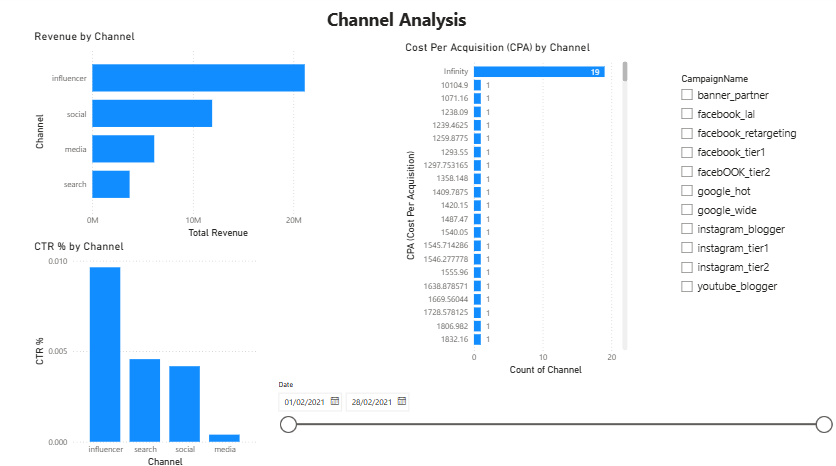

The page's visual inventory and layout, read from the dashboard file:
{"tool":"powerbi","page":{"name":"Channel Analysis","canvas":[1280,720],"ordinal":1},"visuals":[{"type":"barChart","title":"Revenue by Channel","fields":{"Category":["MarketingData.Channel"],"Y":["MarketingData.Total Revenue"]},"box":[56.1,27.3,491.4,345.8],"z":0},{"type":"barChart","title":"Cost Per Acquisition (CPA) by Channel","fields":{"Category":["MarketingData.CPA (Cost Per Acquisition)"],"Y":["CountNonNull(MarketingData.Channel)"]},"box":[618.8,27.3,347.3,553.6],"z":1000},{"type":"clusteredColumnChart","title":"CTR % by Channel","fields":{"Category":["MarketingData.Channel"],"Y":["MarketingData.CTR %"]},"box":[56.1,370,347.3,350.3],"z":2000},{"type":"slicer","fields":{"Values":["MarketingData.Date"]},"box":[418.5,579.4,861.5,117.4],"z":2002},{"type":"slicer","fields":{"Values":["MarketingData.CampaignName"]},"box":[1029.8,113.7,219.9,414],"z":2003}]}

Visuals, with their boxes in screenshot pixels (x1, y1, x2, y2), scaled from the page's 1280x720 canvas onto the 836x466 screenshot:
"Revenue by Channel" barChart: box(37, 18, 358, 241)
"Cost Per Acquisition (CPA) by Channel" barChart: box(404, 18, 631, 376)
"CTR % by Channel" clusteredColumnChart: box(37, 239, 263, 465)
slicer - MarketingData.Date: box(273, 375, 835, 451)
slicer - MarketingData.CampaignName: box(673, 74, 816, 342)
